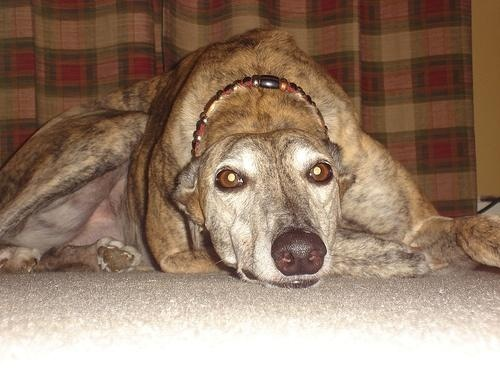dog: (4, 29, 500, 287)
